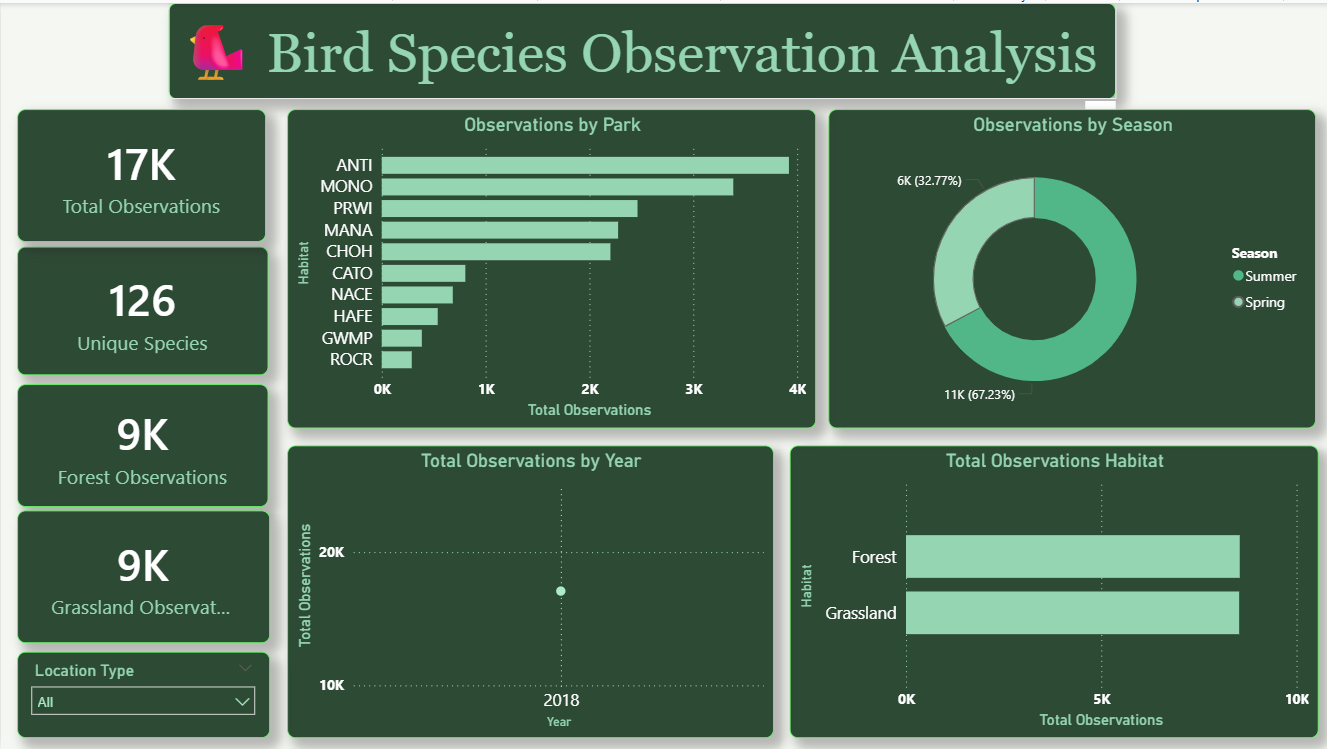

The dashboard page shown, as its layout file describes it:
{"tool":"powerbi","page":{"name":"Overview","canvas":[1280,720],"ordinal":0},"visuals":[{"type":"textbox","box":[161.7,0,914.5,92.9],"z":0},{"type":"cardVisual","fields":{"Data":["bird_combined_clean.Unique Species"]},"box":[15.7,235.3,242.5,124.3],"z":1000},{"type":"cardVisual","fields":{"Data":["bird_combined_clean.Forest Observations"]},"box":[15.7,368,242.5,118.2],"z":2000},{"type":"cardVisual","fields":{"Data":["bird_combined_clean.Grassland Observations"]},"box":[15.7,489.8,243.7,127.9],"z":3000},{"type":"clusteredBarChart","title":"Total Observations Habitat","fields":{"Category":["bird_combined_clean.Location_Type"],"Y":["bird_combined_clean.Total Observations"]},"box":[761.3,427.1,510.3,282.3],"z":4000},{"type":"donutChart","title":"Observations by Season","fields":{"Category":["bird_combined_clean.Season"],"Y":["bird_combined_clean.Total Observations"]},"box":[798.7,102.5,470.5,307.6],"z":5000},{"type":"cardVisual","fields":{"Data":["bird_combined_clean.Total Observations"]},"box":[15.7,102.5,240.1,127.9],"z":6000},{"type":"clusteredBarChart","title":"Observations by Park","fields":{"Y":["bird_combined_clean.Total Observations"],"Category":["bird_combined_clean.Admin_Unit_Code"]},"box":[276.3,102.5,510.3,307.6],"z":7000},{"type":"lineChart","fields":{"Y":["bird_combined_clean.Total Observations"],"Category":["bird_combined_clean.Year"]},"box":[276.3,427.1,469.3,282.3],"z":8000},{"type":"slicer","fields":{"Values":["bird_combined_clean.Location_Type"]},"box":[15.7,626.1,243.7,83.2],"z":9000}]}

Visuals, with their boxes in screenshot pixels (x1, y1, x2, y2), scaled from the page's 1280x720 canvas onto the 1327x749 screenshot:
textbox: x1=168 y1=0 x2=1116 y2=97
cardVisual - bird_combined_clean.Unique Species: x1=16 y1=245 x2=268 y2=374
cardVisual - bird_combined_clean.Forest Observations: x1=16 y1=383 x2=268 y2=506
cardVisual - bird_combined_clean.Grassland Observations: x1=16 y1=510 x2=269 y2=643
"Total Observations Habitat" clusteredBarChart: x1=789 y1=444 x2=1318 y2=738
"Observations by Season" donutChart: x1=828 y1=107 x2=1316 y2=427
cardVisual - bird_combined_clean.Total Observations: x1=16 y1=107 x2=265 y2=240
"Observations by Park" clusteredBarChart: x1=286 y1=107 x2=815 y2=427
lineChart - bird_combined_clean.Total Observations x bird_combined_clean.Year: x1=286 y1=444 x2=773 y2=738
slicer - bird_combined_clean.Location_Type: x1=16 y1=651 x2=269 y2=738
